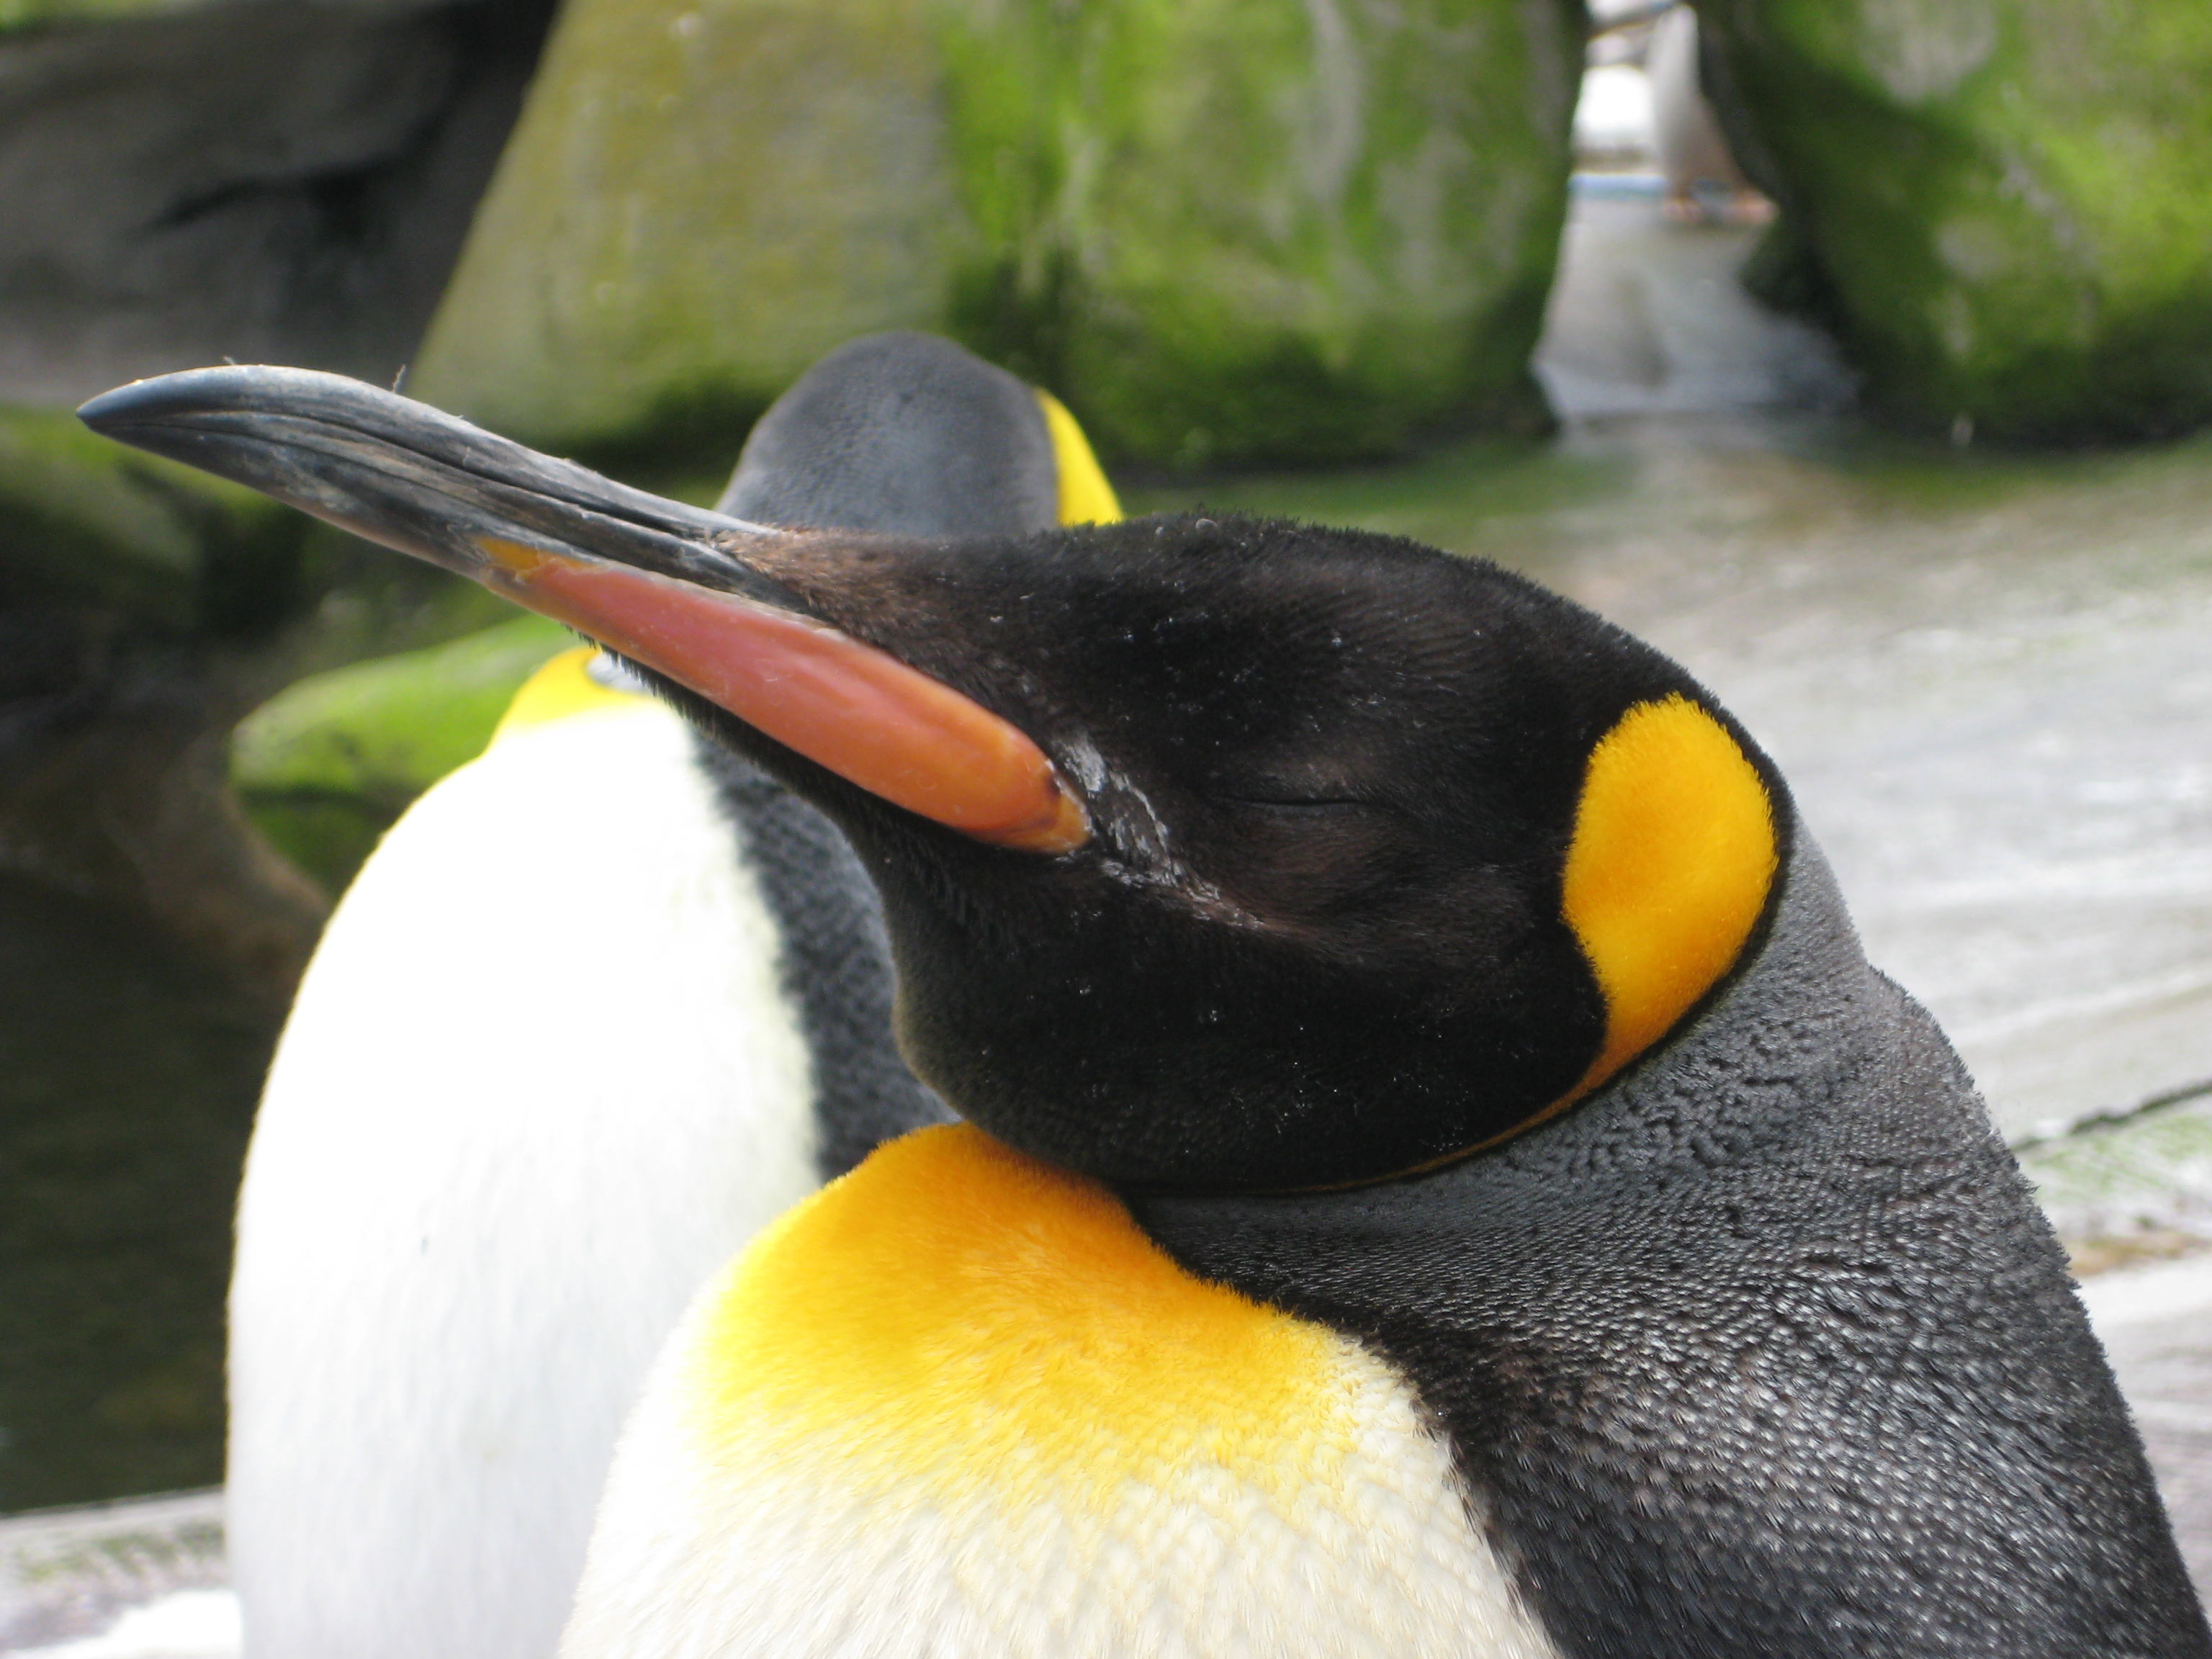penguin: (7, 359, 2212, 1647)
